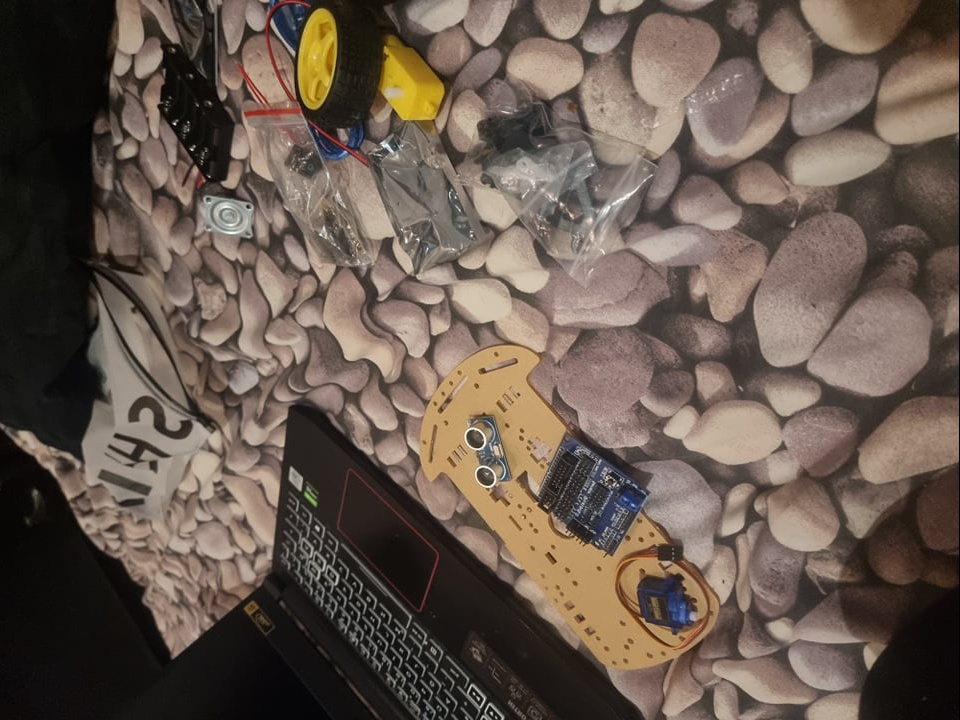5V EXPANSION: (537, 428, 651, 559)
BATTERY BOX: (141, 40, 238, 181)
SENSOR: (463, 414, 513, 490)
